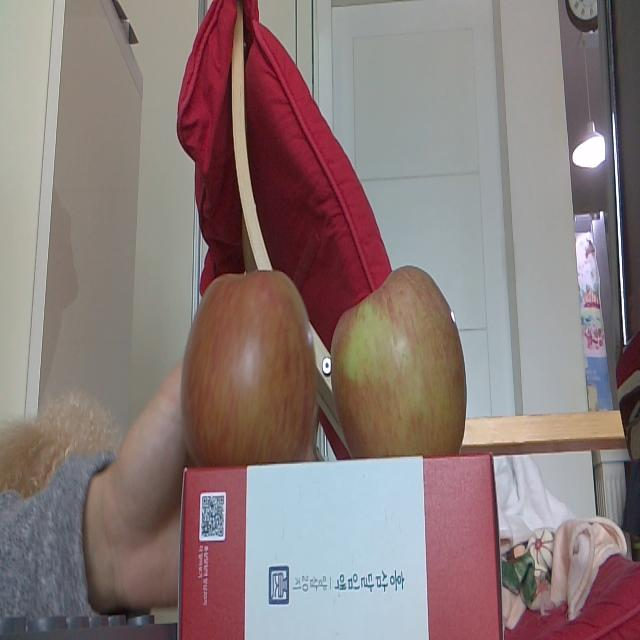apple: (181, 265, 319, 469), (331, 263, 467, 458)
